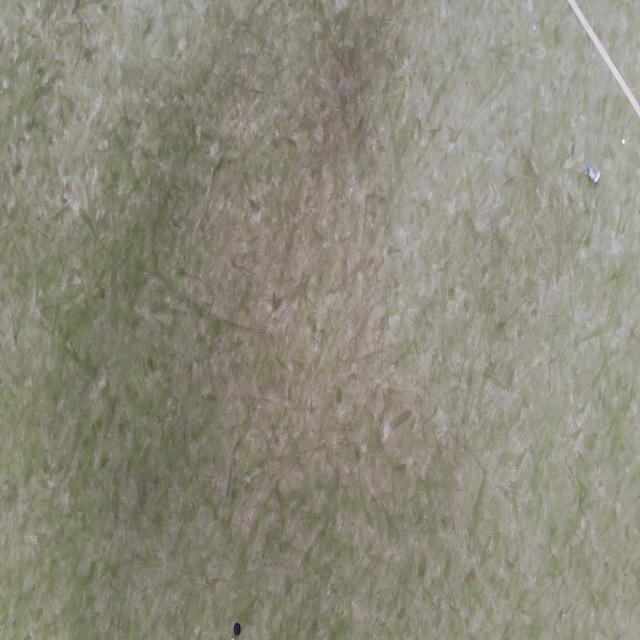rubbish: (588, 168, 602, 183), (234, 623, 241, 636), (621, 137, 626, 146), (534, 24, 536, 30)
